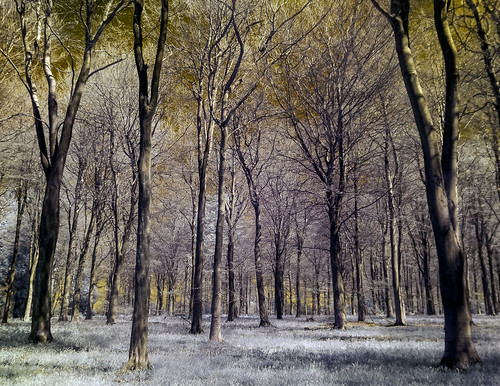vegetation: (1, 1, 500, 313)
